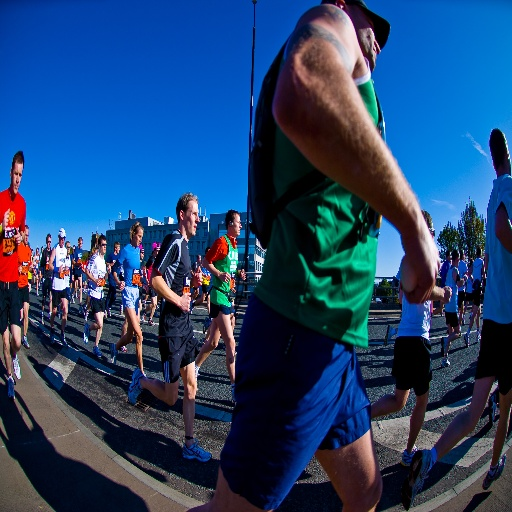hand: (401, 234, 441, 305), (11, 226, 22, 248), (0, 208, 10, 231), (192, 267, 202, 290), (180, 292, 191, 312), (219, 270, 231, 285), (443, 286, 452, 306), (238, 268, 247, 284), (16, 264, 23, 277), (57, 262, 64, 274), (118, 281, 126, 291), (94, 277, 101, 287), (62, 263, 68, 273)
